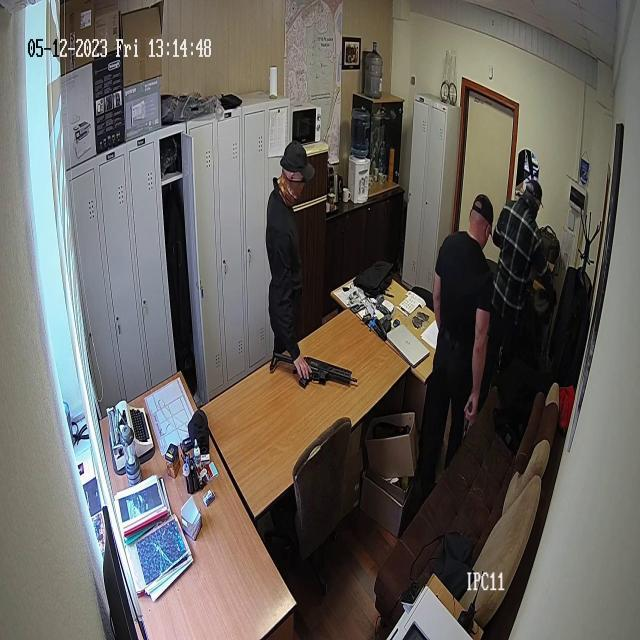pistol: (268, 348, 358, 388), (462, 399, 475, 441)
